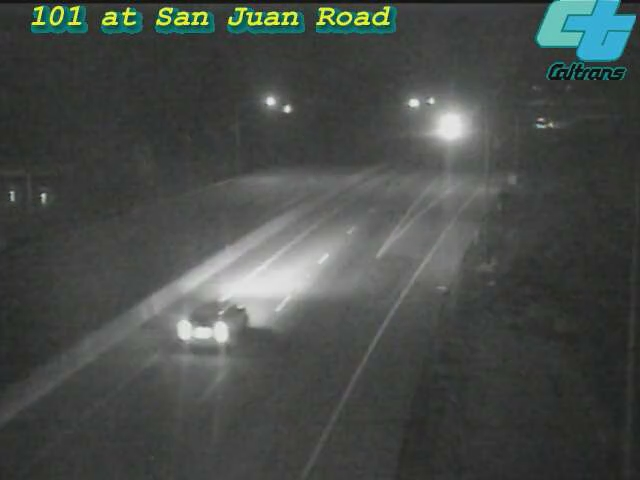vehicle: (150, 271, 260, 381), (423, 102, 473, 152), (521, 97, 571, 147)
